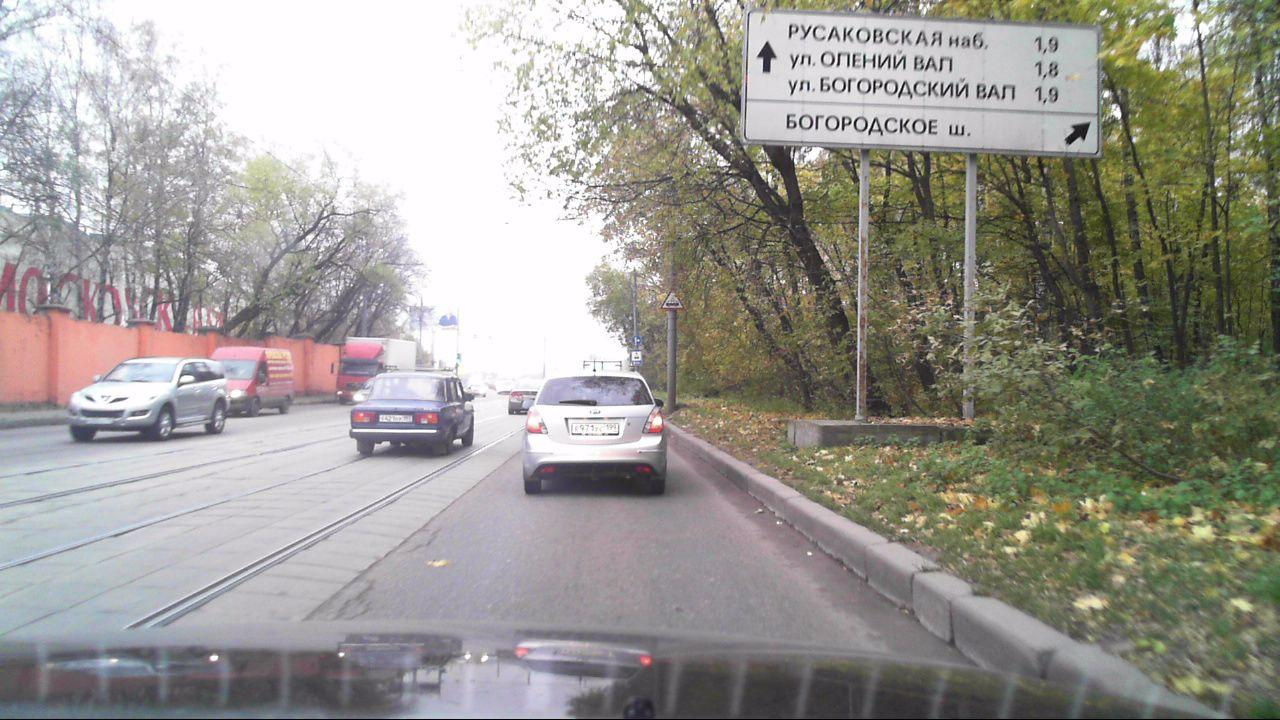road_sign: (659, 285, 688, 310)
